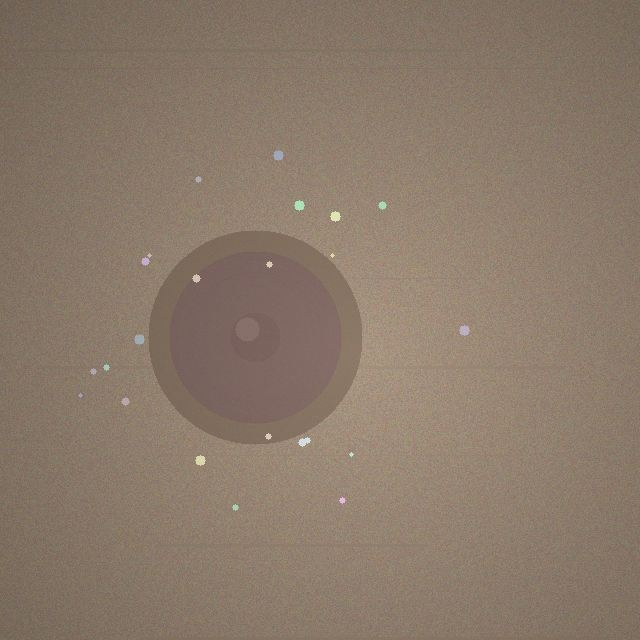overburn: (148, 230, 362, 444)
